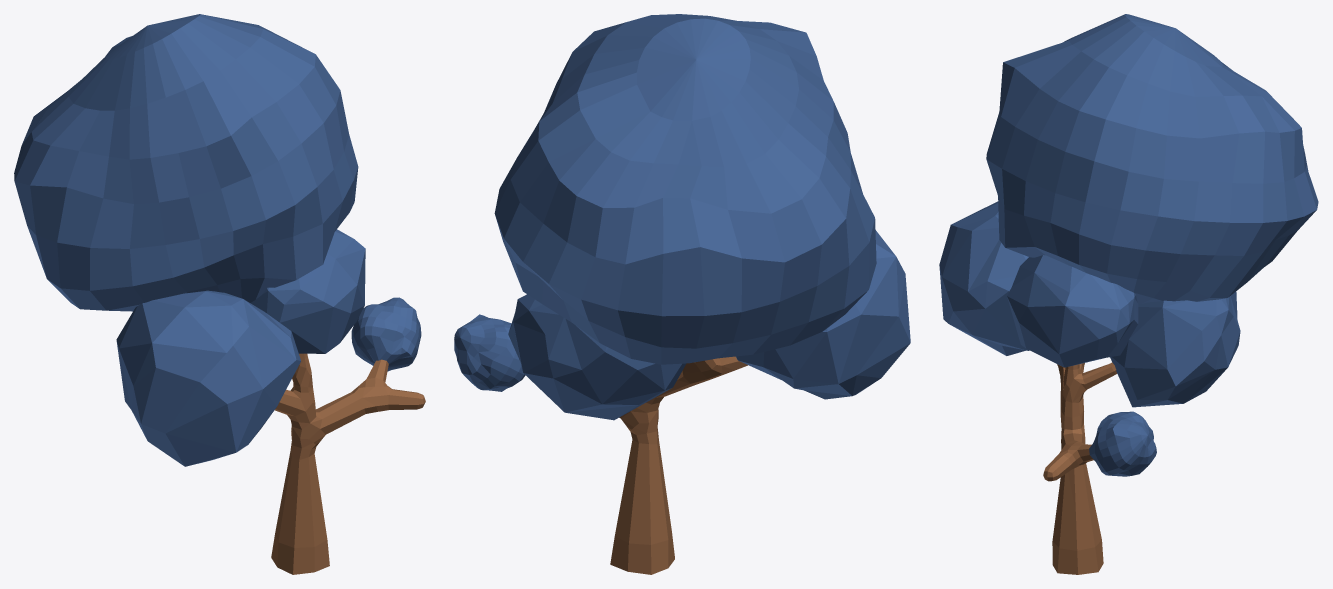
File: tree-winter-complete-9-012.glb
The picture shows the model from 3 angles, left to right: view 1: azimuth 30°, elevation 25°; view 2: azimuth 150°, elevation 25°; view 3: azimuth 270°, elevation 25°; orthographic projection. The views are drawn at different scales.
Visible parts, largest first — view 1: TREE 9.005_208, TREE 9.004_209; view 2: TREE 9.005_208, TREE 9.004_209; view 3: TREE 9.005_208, TREE 9.004_209.
Part boxes in pixels (<box>): TREE 9.005_208: <box>14,14,421,466</box>; TREE 9.004_209: <box>271,353,425,574</box>; TREE 9.005_208: <box>454,14,910,420</box>; TREE 9.004_209: <box>610,356,747,574</box>; TREE 9.005_208: <box>939,14,1318,476</box>; TREE 9.004_209: <box>1043,362,1116,574</box>.
Size of the model in its own units: 1.3 by 1.8 by 1.22.
